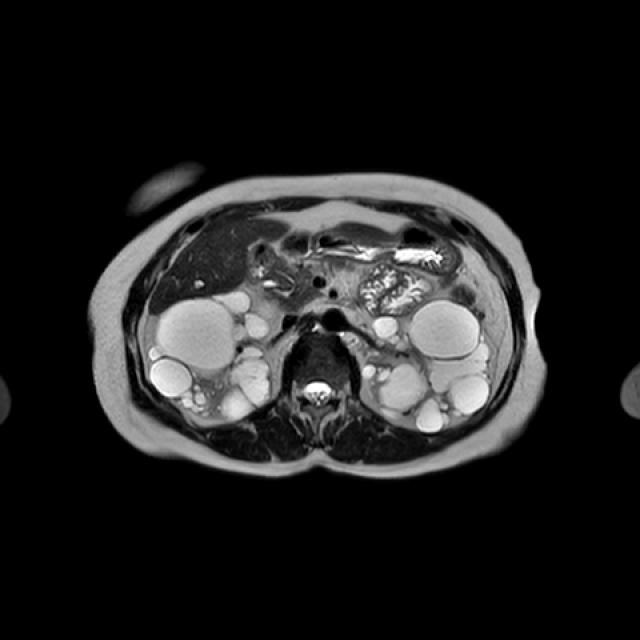sag: (149, 288, 274, 419)
sol: (366, 301, 492, 432)
